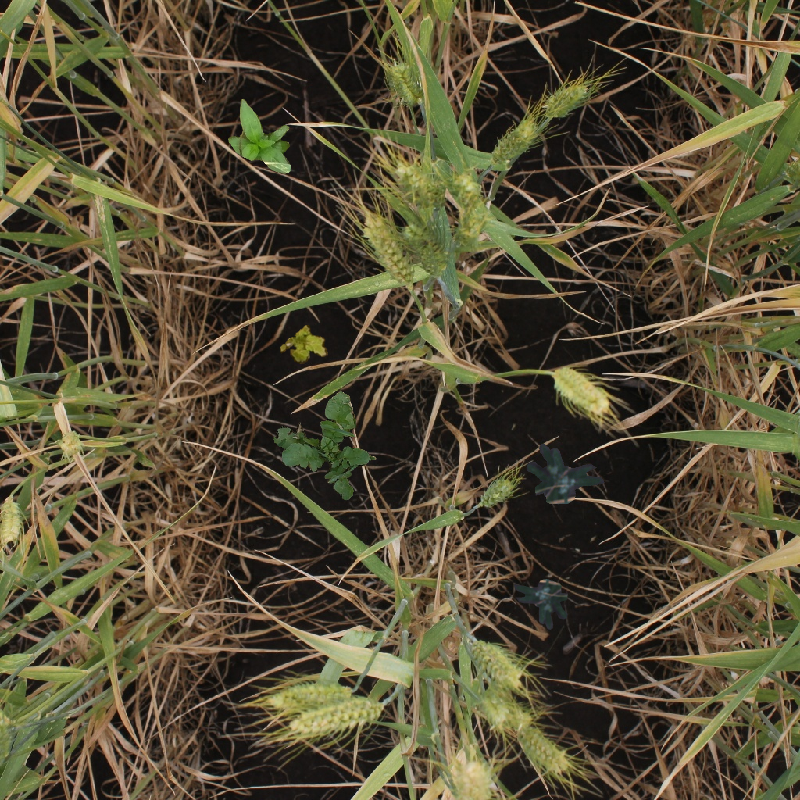spikelet: (285, 693, 386, 739), (358, 207, 417, 283), (462, 631, 527, 690), (549, 361, 614, 417), (262, 675, 355, 713), (514, 717, 572, 775), (486, 111, 545, 168), (403, 218, 453, 277), (445, 749, 498, 800), (539, 75, 595, 120), (392, 159, 443, 208), (474, 688, 528, 731), (382, 57, 427, 107), (452, 200, 493, 250), (474, 469, 522, 508), (447, 165, 485, 206), (1, 495, 27, 546), (55, 425, 85, 464), (1, 705, 17, 763)
weed: (278, 390, 380, 500), (520, 428, 608, 514), (222, 106, 304, 176), (514, 579, 568, 630), (280, 325, 328, 364)
